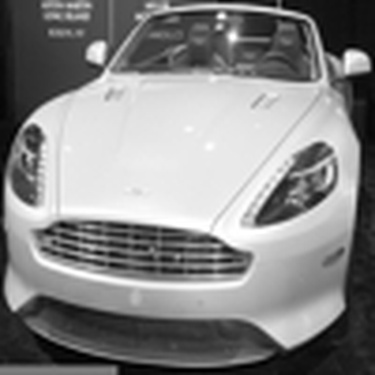car: (3, 1, 370, 371)
